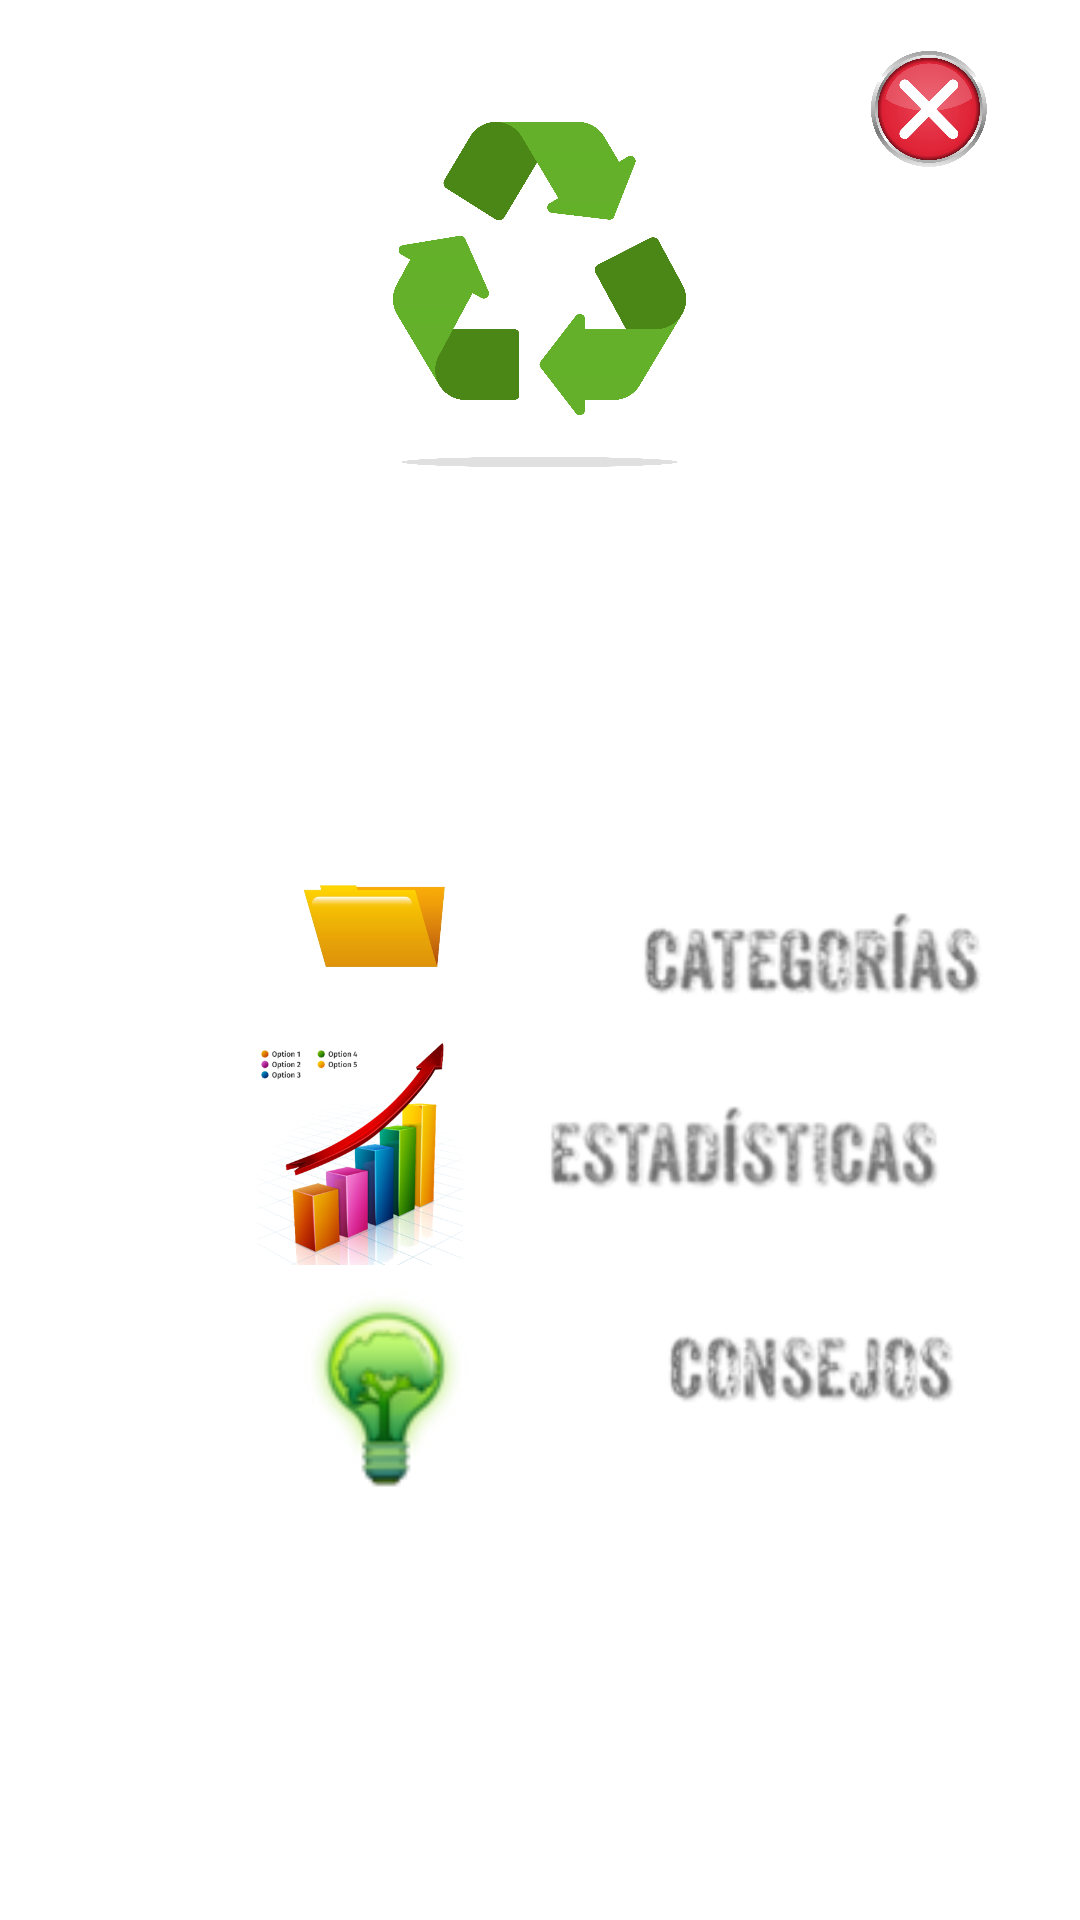

Icon bounding boxes for this 1080x1920 phone screenshot, format (x1, y1, x2, y2):
Cerrar Sesión: (871, 51, 987, 167)
estatis: (261, 1043, 456, 1265)
folder: (304, 885, 445, 967)
